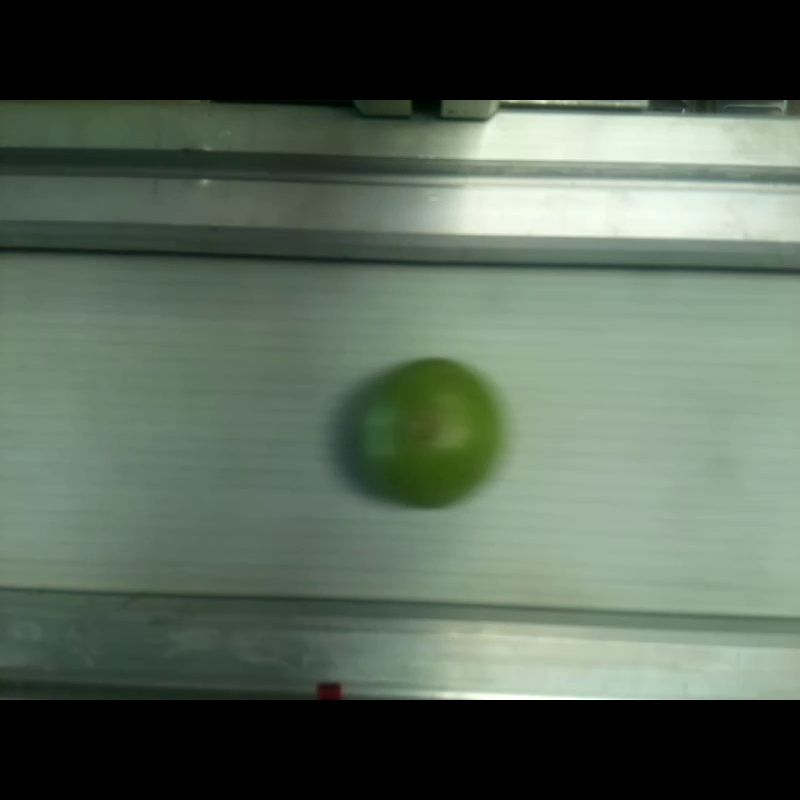lime: (354, 360, 497, 507)
